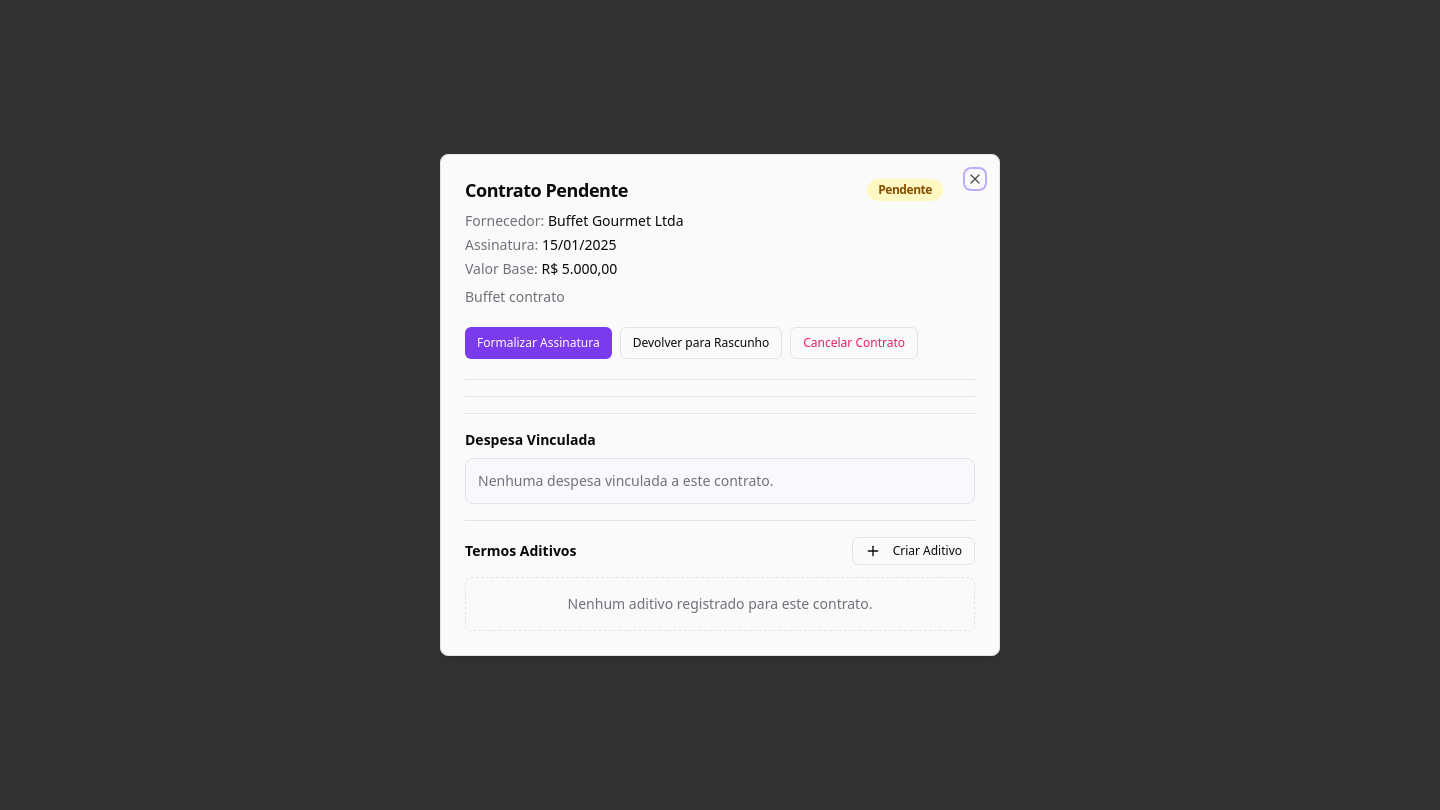
Scenario: ContractDetailDialog › opens SignContractDialog when clicking Formalizar Assinatura on a PENDING contract
Click the button "Formalizar Assinatura".
click(538, 343)  # box [465,327,612,359]
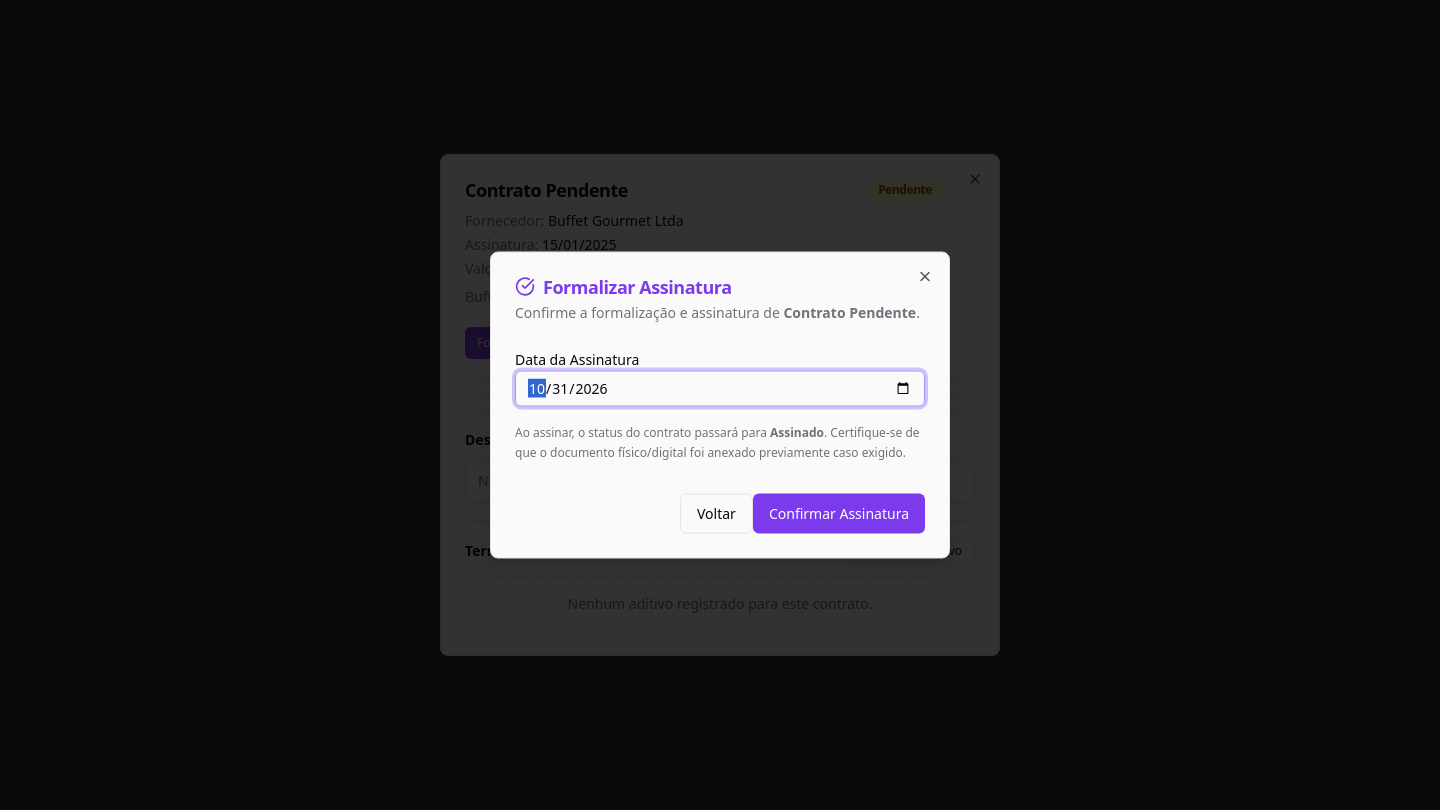
Expected: the heading "Formalizar Assinatura" is shown, [515,274,732,298]
